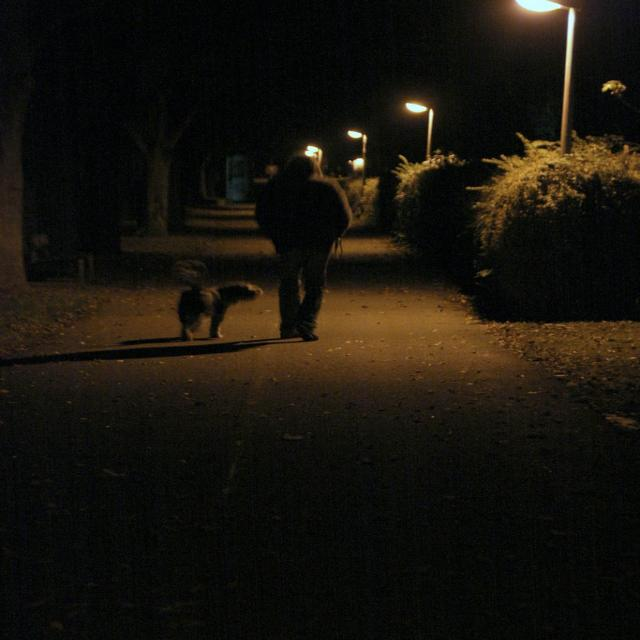People: (246, 148, 399, 393)
dog: (151, 279, 256, 364)
